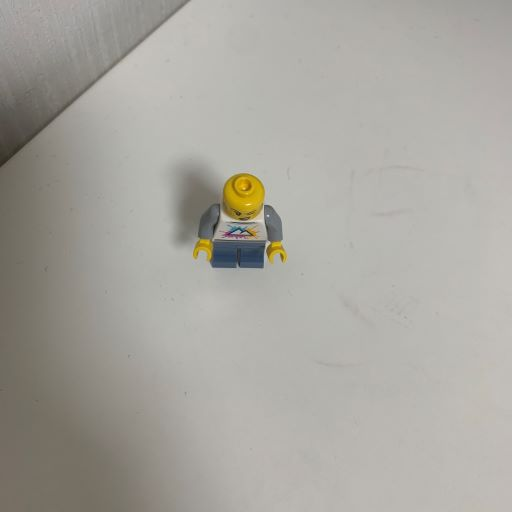human: (177, 164, 297, 286)
